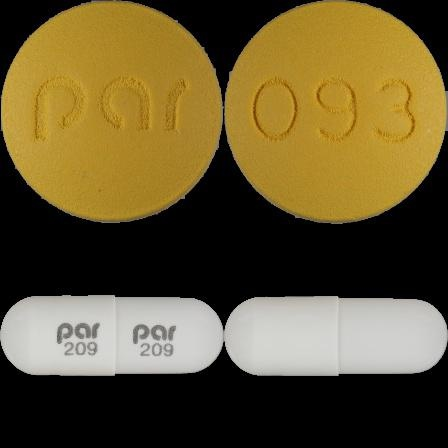49884-093: (0, 0, 224, 224)
